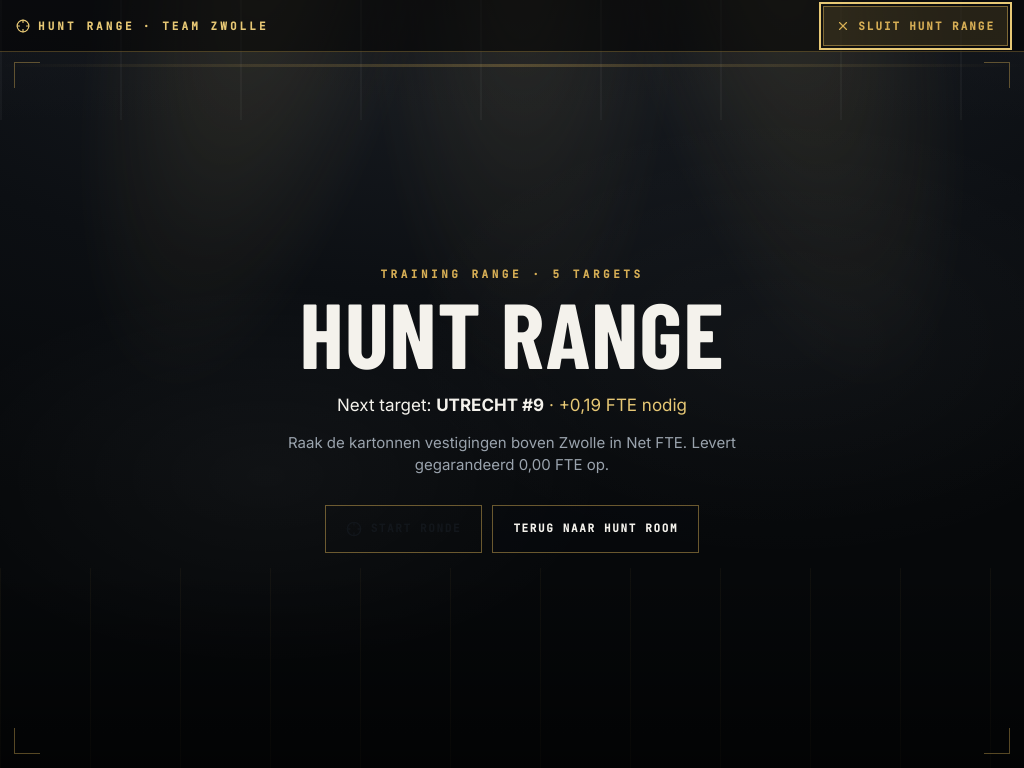
Test: HuntRange › a target that slides past is a miss
The image size is (1024, 768).
Click the button "Start ronde": x=404, y=529 left=325, top=505, right=482, bottom=553
Wait 5550 ms
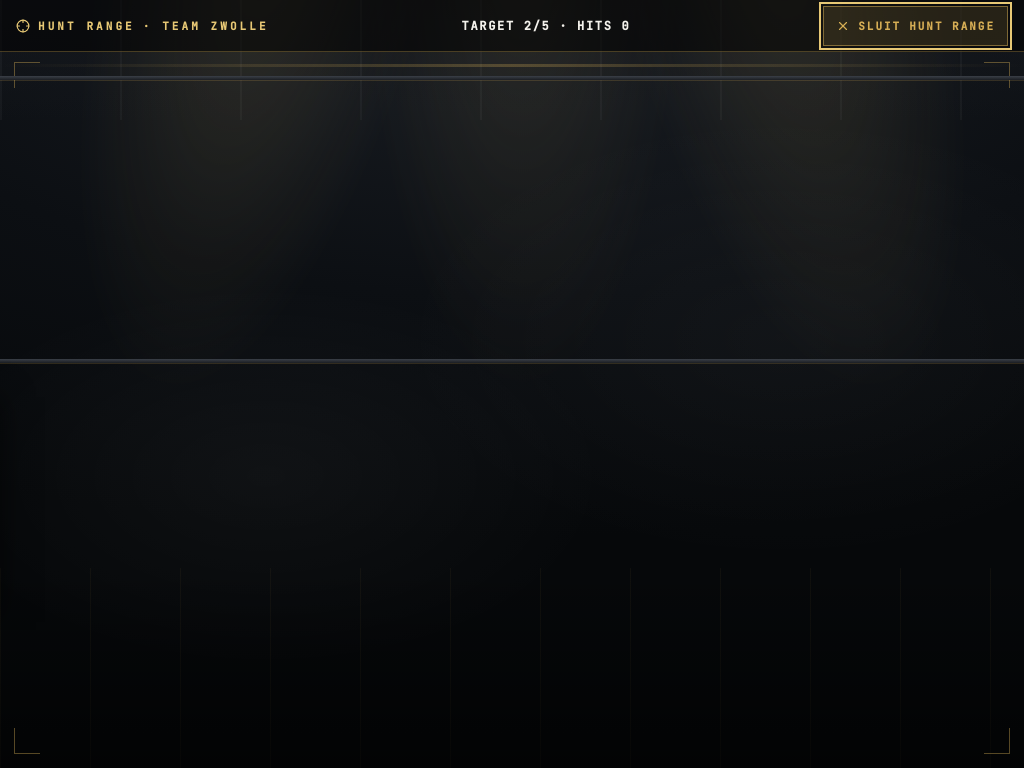
Expected: the text with test id "range-hud" shows "Hits 0", left=462, top=18, right=630, bottom=34
